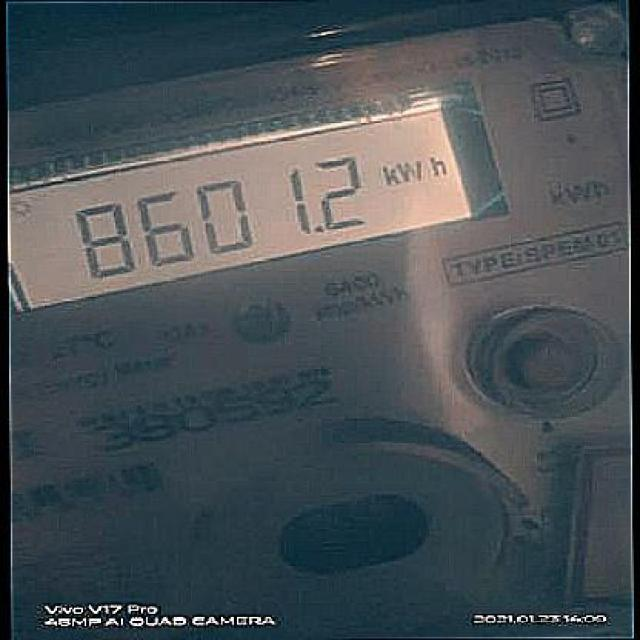display: (11, 106, 475, 311)
frame: (64, 146, 380, 276)
gauge: (9, 15, 632, 640)
